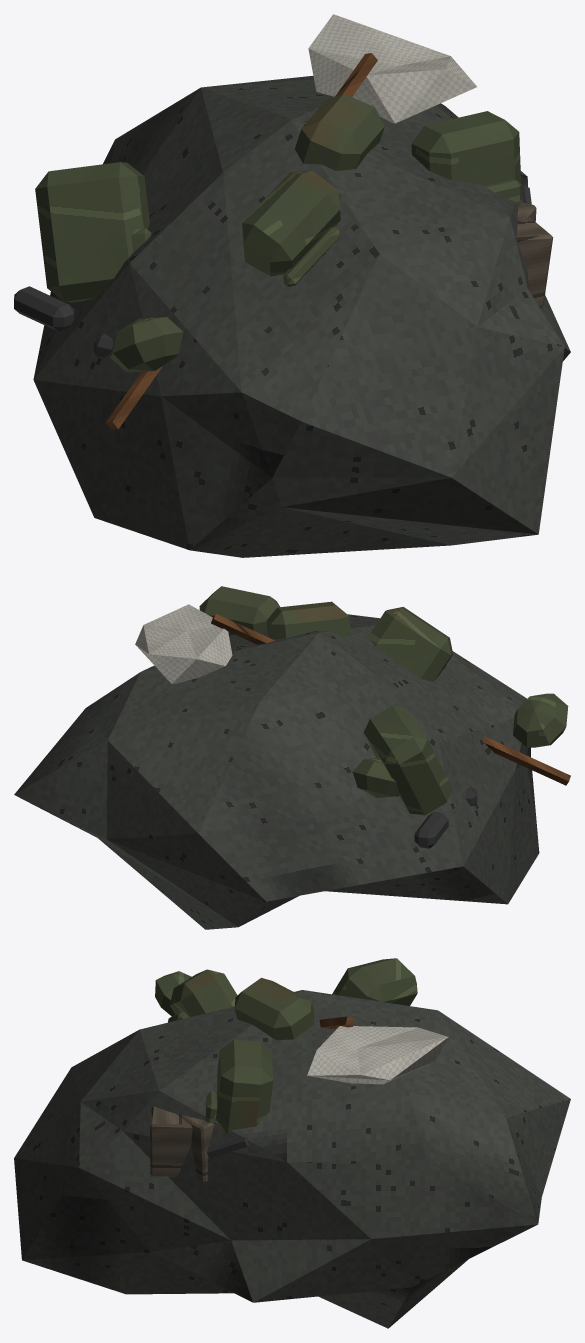
The model's file is junk_pile.glb.
3 renders of one model, top to bottom at view 1: azimuth 30°, elevation 25°; view 2: azimuth 150°, elevation 25°; view 3: azimuth 270°, elevation 25°, orthographic. The views are drawn at different scales.
Parts seen in each view (by area): view 1: junk_pile; view 2: junk_pile; view 3: junk_pile.
Boxes of the visible parts, x1,y1,x2,y2 form: junk_pile: (14,14,570,557); junk_pile: (14,586,570,929); junk_pile: (14,958,570,1328).
Size of what is drawn, in the model's own units: 2.27 by 1.66 by 2.65.
Materials: 6 (5 with a texture image).
